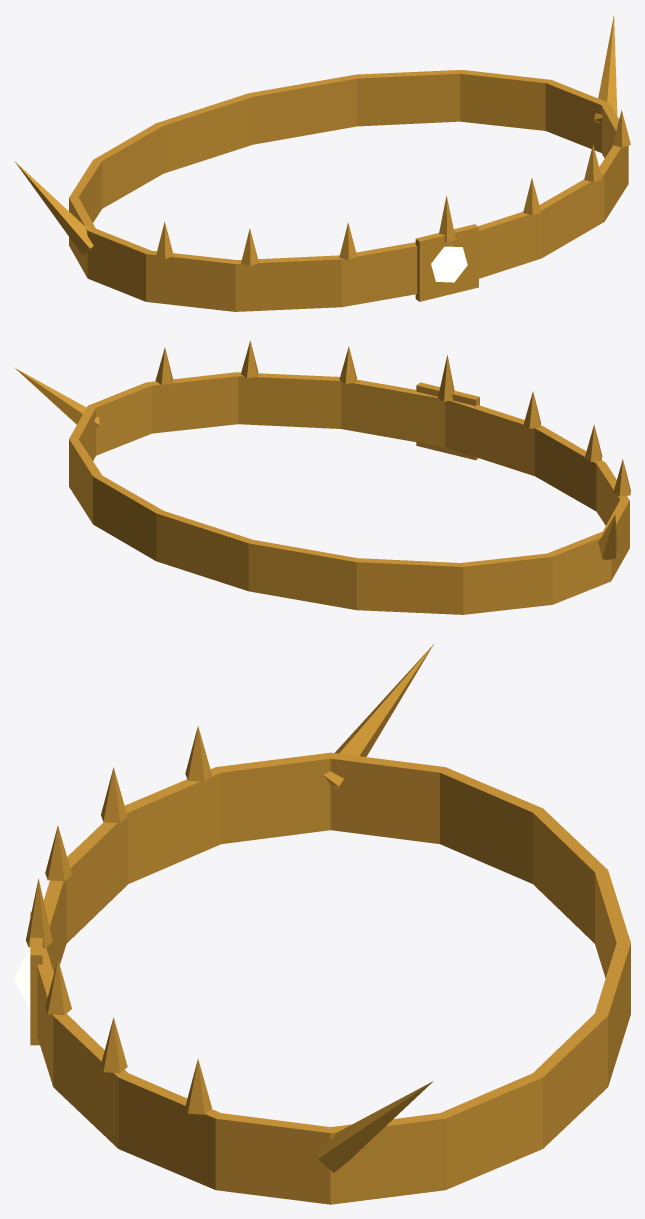
The model's file is armor_lord_head_legendary_orc.glb.
3 renders of one model, top to bottom at view 1: azimuth 30°, elevation 25°; view 2: azimuth 150°, elevation 25°; view 3: azimuth 270°, elevation 25°, orthographic. The views are drawn at different scales.
Parts seen in each view (by area): view 1: armor_lord_head_legendary_orc__head; view 2: armor_lord_head_legendary_orc__head; view 3: armor_lord_head_legendary_orc__head.
Part boxes in pixels (x1,y1,x2,y2): armor_lord_head_legendary_orc__head: [15, 15, 630, 311]; armor_lord_head_legendary_orc__head: [14, 340, 630, 614]; armor_lord_head_legendary_orc__head: [14, 644, 630, 1204].
Bounding box in the file's own units: 101 × 17.43 × 60.21.
